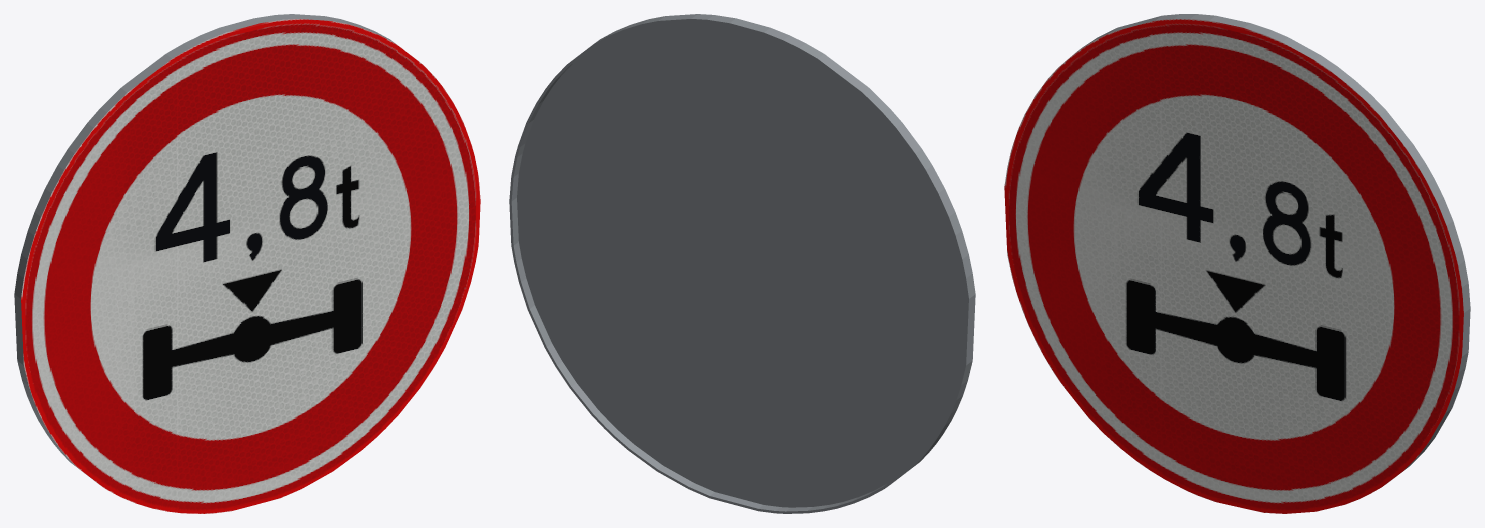
The picture shows the model from 3 angles, left to right: view 1: azimuth 30°, elevation 25°; view 2: azimuth 150°, elevation 25°; view 3: azimuth 330°, elevation 25°; orthographic projection.
Parts seen in each view (by area): view 1: cat_576361cfe8f6a482; view 2: cat_576361cfe8f6a482; view 3: cat_576361cfe8f6a482.
Part boxes in pixels (bbox=[...]): cat_576361cfe8f6a482: bbox=[14, 14, 480, 513]; cat_576361cfe8f6a482: bbox=[509, 14, 975, 513]; cat_576361cfe8f6a482: bbox=[1004, 14, 1470, 513].
Bounding box in the file's own units: 0.6 × 0.015 × 0.6.
Materials: 2 (1 with a texture image).
